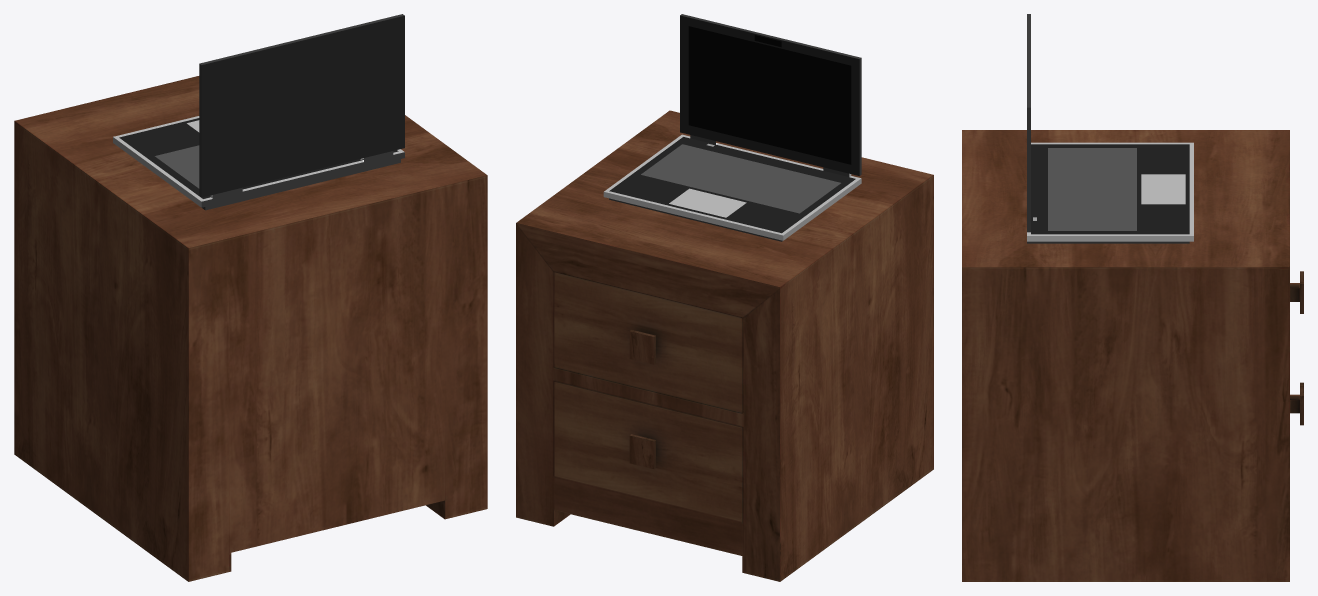
File: Computer.glb
3 renders of one model, left to right at view 1: azimuth 30°, elevation 25°; view 2: azimuth 150°, elevation 25°; view 3: azimuth 270°, elevation 25°, orthographic. The views are drawn at different scales.
Visible parts, largest first — view 1: Bollard, ID99, ID55, ID11, ID41, ID87, Notebook; view 2: Bollard, ID123, ID41, ID55, ID105, Notebook, ID49, ID87; view 3: Bollard, ID41, ID55, Notebook, ID49, ID87, ID11.
Part boxes in pixels (left/top/right/bottom): Bollard: left=14, top=76, right=487, bottom=581; ID99: left=201, top=15, right=404, bottom=197; ID55: left=119, top=118, right=398, bottom=198; ID11: left=201, top=151, right=404, bottom=210; ID41: left=155, top=145, right=199, bottom=188; ID87: left=199, top=14, right=404, bottom=197; Notebook: left=113, top=116, right=404, bottom=201; Bollard: left=516, top=110, right=933, bottom=581; ID123: left=688, top=26, right=851, bottom=164; ID41: left=641, top=144, right=840, bottom=213; ID55: left=609, top=137, right=855, bottom=233; ID105: left=680, top=15, right=859, bottom=175; Notebook: left=603, top=134, right=860, bottom=240; ID49: left=669, top=188, right=746, bottom=217; ID87: left=680, top=14, right=861, bottom=175; Bollard: left=962, top=130, right=1303, bottom=581; ID41: left=1048, top=148, right=1136, bottom=230; ID55: left=1031, top=144, right=1189, bottom=234; Notebook: left=1027, top=142, right=1193, bottom=241; ID49: left=1141, top=174, right=1185, bottom=204; ID87: left=1027, top=14, right=1030, bottom=232; ID11: left=1027, top=241, right=1189, bottom=243.
Bounding box in the file's own units: 0.6138 × 0.9414 × 0.645.
8 materials, 1 textured.
